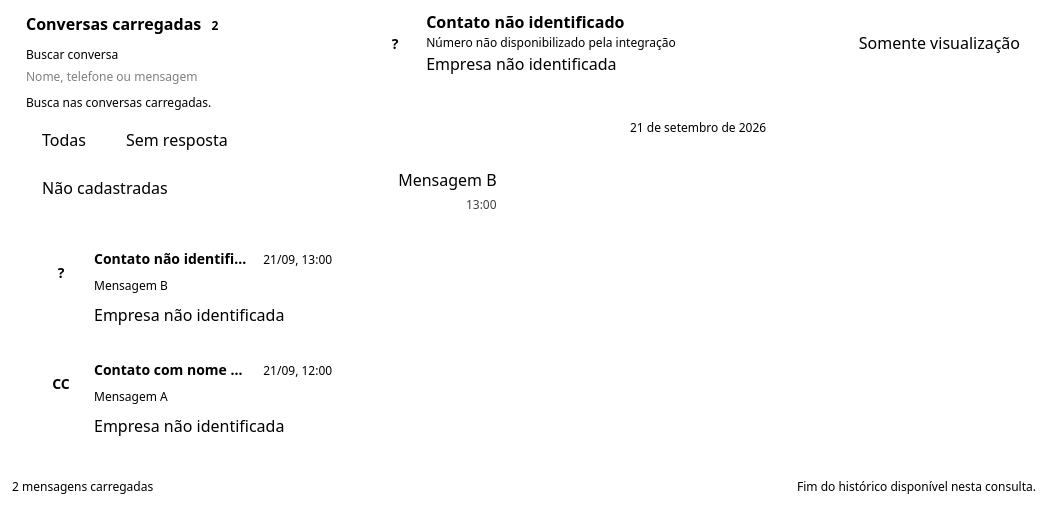
Test case: nome longo e ausência de nome mantêm identificação e conversa separada
The image size is (1048, 511).
Expected: the button that starts with "Contato não identificado" is shown, [24,232,348,343]
Click the 5th button. click: (162, 370)
box: [24,343,348,454]
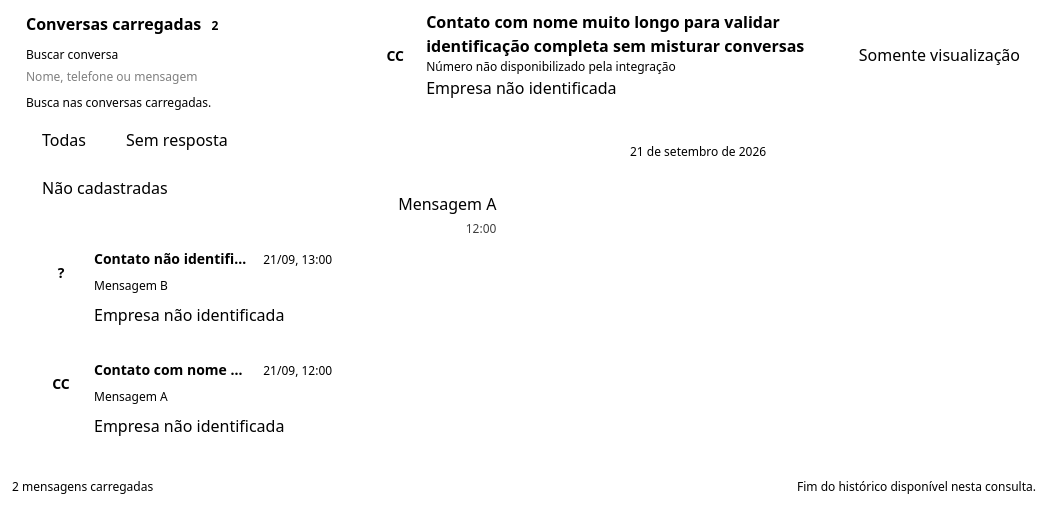
Expected: the 2nd heading shows "Contato com nome muito longo para validar identificação completa sem misturar conversas", [426,11,804,57]
Expected: the list shows "Mensagem A", [398,193,496,215]
